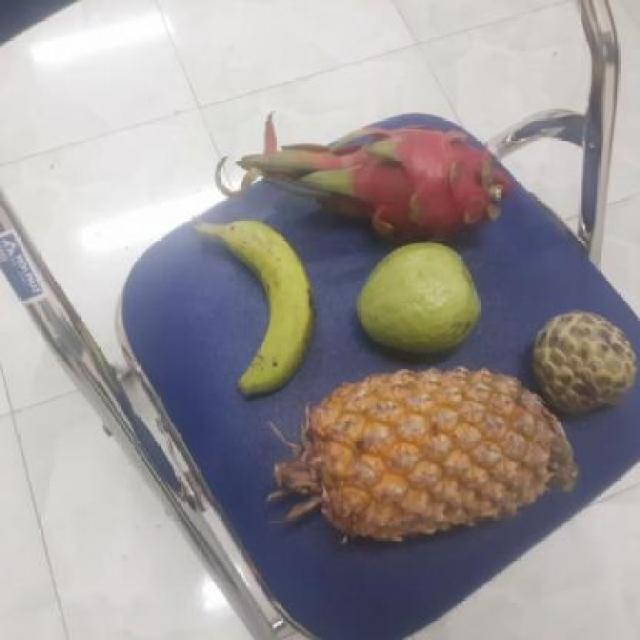banana: (204, 222, 313, 388)
dragon fruit: (319, 115, 503, 243)
guava: (351, 241, 484, 355)
pineapple: (282, 369, 563, 540)
sugar apple: (521, 310, 637, 415)
